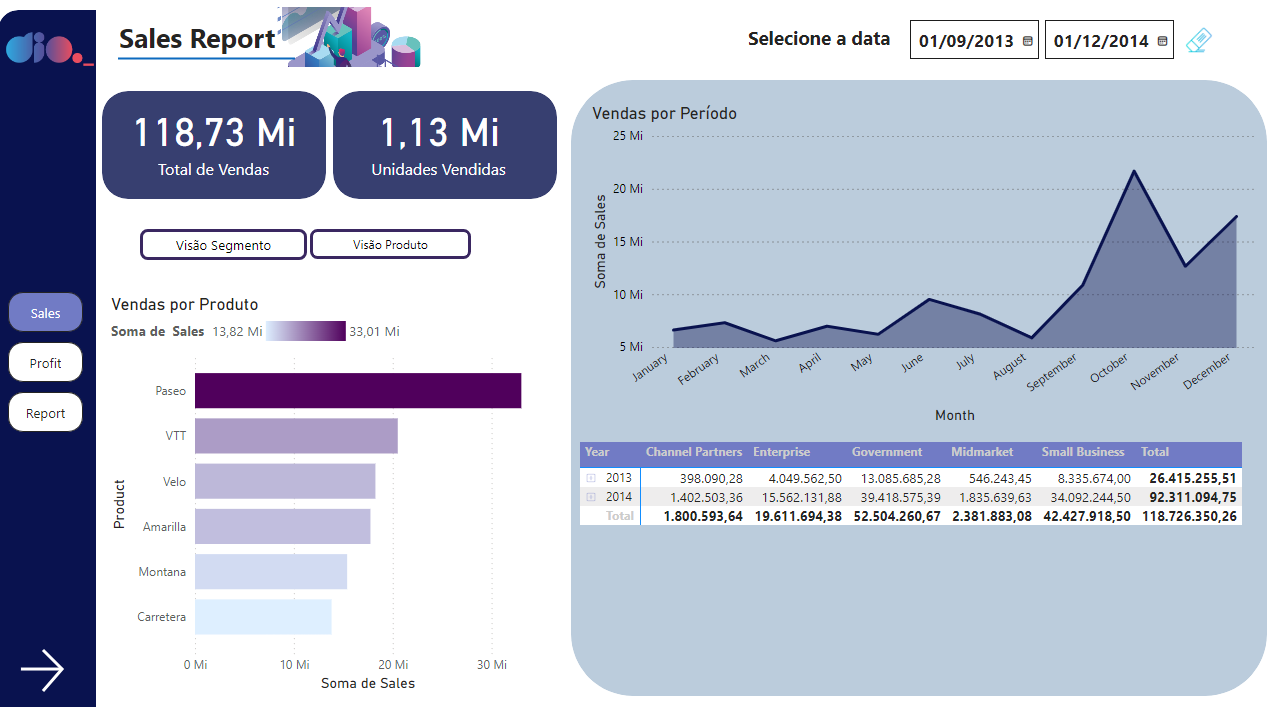

The dashboard page shown, as its layout file describes it:
{"tool":"powerbi","page":{"name":"Sales","canvas":[1280,720],"ordinal":0},"visuals":[{"type":"slicer","fields":{"Values":["financials.Date"]},"box":[899,15,292.3,54.7],"z":0,"group":"g1"},{"type":"shape","box":[573,85,696,616],"z":0},{"type":"image","box":[255,7,192,70],"z":1000},{"type":"textbox","box":[745,25,164,40],"z":1000,"group":"g1"},{"type":"actionButton","title":"Visão Segmento","box":[142,234,167,31],"z":1250,"group":"g2"},{"type":"actionButton","title":"Visão Produto","box":[312,234,161,30],"z":1375,"group":"g2"},{"type":"actionButton","box":[1208.6,23.6,63.4,51.8],"z":2000,"group":"g1"},{"type":"shape","box":[335,96,224,108],"z":2000},{"type":"shape","box":[11.8,15.1,85.7,705.5],"z":4000},{"type":"shape","box":[104,96,224,108],"z":5000},{"type":"shape","box":[0,15,98,706],"z":6000},{"type":"card","fields":{"Values":["Sum(financials. Sales)"]},"box":[123,101,185,84],"z":7000},{"type":"shape","box":[0,15.1,97.4,80.6],"z":8000},{"type":"image","title":"logo_dio","box":[0,6,104,95],"z":9000},{"type":"card","fields":{"Values":["Sum(financials.Units Sold)"]},"box":[348,101,185,84],"z":10000},{"type":"image","title":"clean","box":[1182,24,38,41],"z":11000},{"type":"areaChart","title":"Vendas por Período","fields":{"Category":["financials.Date.Variation.Date Hierarchy.Year","financials.Date.Variation.Date Hierarchy.Quarter","financials.Date.Variation.Date Hierarchy.Month"],"Y":["Sum(financials. Sales)"]},"box":[589,108,675,325],"z":12000},{"type":"group","id":"g1","title":"Filtro por data","box":[745,15,526.9,60.5],"z":13000},{"type":"clusteredBarChart","title":"Vendas por Produto","fields":{"Y":["Sum(financials. Sales)"],"Category":["financials.Product"]},"box":[108,299.1,455,401.9],"z":15000,"group":"g2"},{"type":"actionButton","box":[15.8,648,70.6,54.7],"z":15000},{"type":"textbox","box":[116,19,181,51],"z":16000},{"type":"shape","box":[120,42,177,43],"z":17000},{"type":"group","id":"g2","title":"Grupo 1","box":[108,234,455,467],"z":18000},{"type":"pivotTable","fields":{"Values":["Sum(financials. Sales)"],"Columns":["financials.Segment"],"Rows":["financials.Date.Variation.Date Hierarchy.Year","financials.Date.Variation.Date Hierarchy.Quarter"]},"box":[577,442,687,233],"z":19000},{"type":"pageNavigator","box":[10,297,75,140],"z":20000}]}

Visuals, with their boxes on the page's 1280x720 design canvas (x1, y1, x2, y2). These are canvas units, not pixel positions in the 1269x707 screenshot, which may show the page scaled, cropped or inside an application window:
slicer - financials.Date: x1=899, y1=15, x2=1191, y2=70
shape: x1=573, y1=85, x2=1269, y2=701
image: x1=255, y1=7, x2=447, y2=77
textbox: x1=745, y1=25, x2=909, y2=65
"Visão Segmento" actionButton: x1=142, y1=234, x2=309, y2=265
"Visão Produto" actionButton: x1=312, y1=234, x2=473, y2=264
actionButton: x1=1209, y1=24, x2=1272, y2=75
shape: x1=335, y1=96, x2=559, y2=204
shape: x1=12, y1=15, x2=98, y2=721
shape: x1=104, y1=96, x2=328, y2=204
shape: x1=0, y1=15, x2=98, y2=721
card - Sum(financials. Sales): x1=123, y1=101, x2=308, y2=185
shape: x1=0, y1=15, x2=97, y2=96
"logo_dio" image: x1=0, y1=6, x2=104, y2=101
card - Sum(financials.Units Sold): x1=348, y1=101, x2=533, y2=185
"clean" image: x1=1182, y1=24, x2=1220, y2=65
"Vendas por Período" areaChart: x1=589, y1=108, x2=1264, y2=433
"Filtro por data" group: x1=745, y1=15, x2=1272, y2=76
"Vendas por Produto" clusteredBarChart: x1=108, y1=299, x2=563, y2=701
actionButton: x1=16, y1=648, x2=86, y2=703
textbox: x1=116, y1=19, x2=297, y2=70
shape: x1=120, y1=42, x2=297, y2=85
"Grupo 1" group: x1=108, y1=234, x2=563, y2=701
pivotTable - Sum(financials. Sales) x financials.Segment: x1=577, y1=442, x2=1264, y2=675
pageNavigator: x1=10, y1=297, x2=85, y2=437
